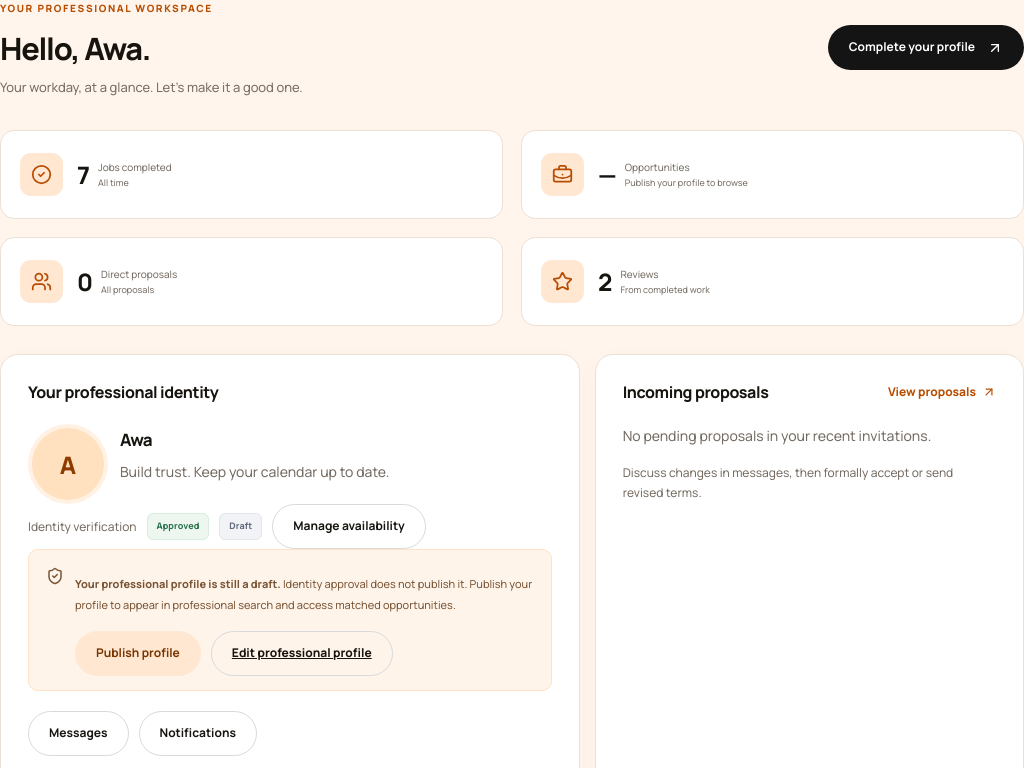
publishes only after worker confirmation and then loads matched opportunities
Click the button "Publish profile": (138, 654) [75,631,201,676]
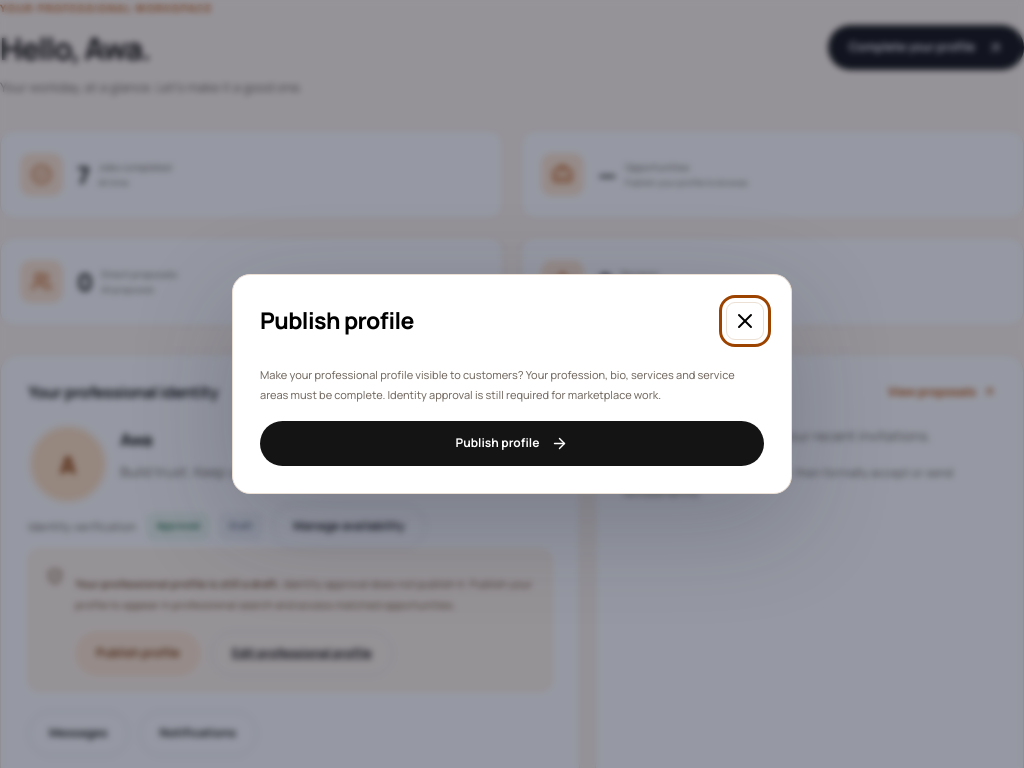
Click the 1st button "Publish profile": (512, 444) [260,421,764,466]
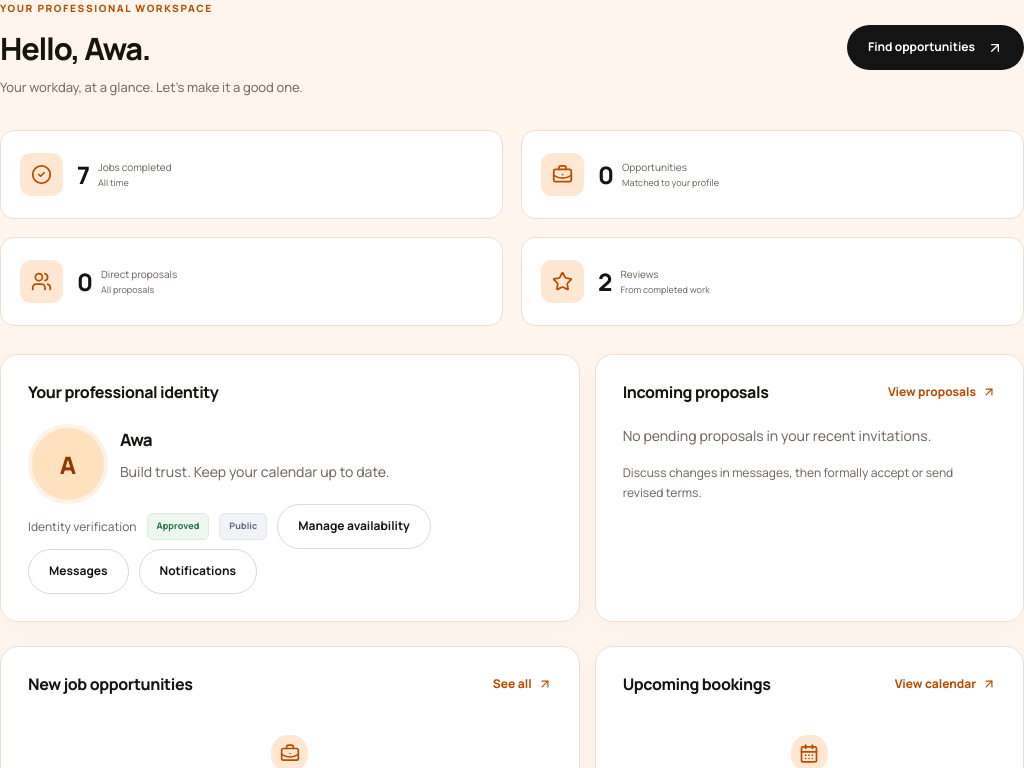
Check: the text "Public" is shown, box [219,513,267,540]
Check: the text "Your professional profile is still a draft." is gone
